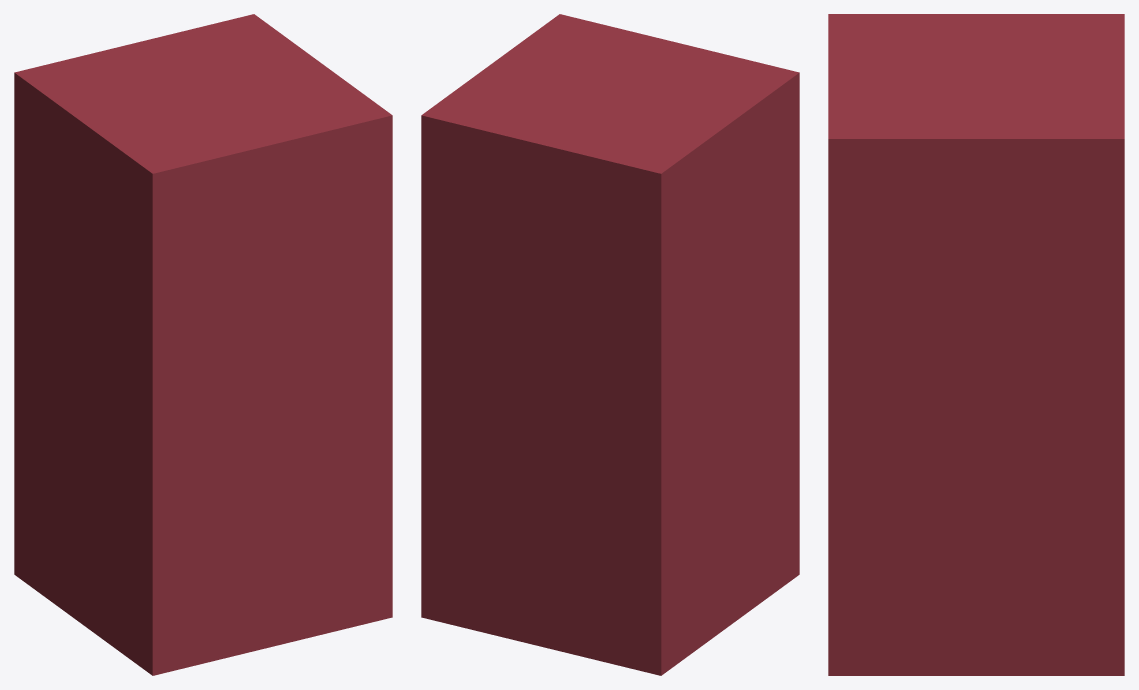
The model's file is PastelRedThinEdge.fbx.
3 renders of one model, left to right at view 1: azimuth 30°, elevation 25°; view 2: azimuth 150°, elevation 25°; view 3: azimuth 270°, elevation 25°, orthographic. The views are drawn at different scales.
Visible parts, largest first — view 1: LED option2.013; view 2: LED option2.013; view 3: LED option2.013.
Boxes of the visible parts, <box> form: LED option2.013: <box>14,14,392,675</box>; LED option2.013: <box>421,14,799,675</box>; LED option2.013: <box>828,14,1124,675</box>.
Bounding box in the file's own units: 100 × 200 × 100.
